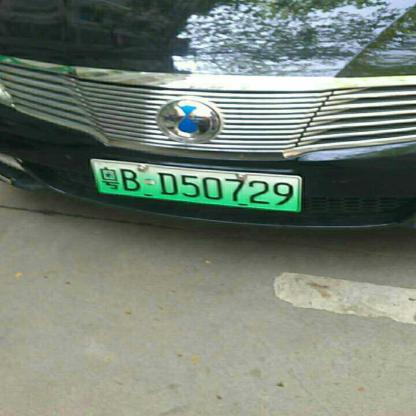lp: (91, 160, 301, 212)
